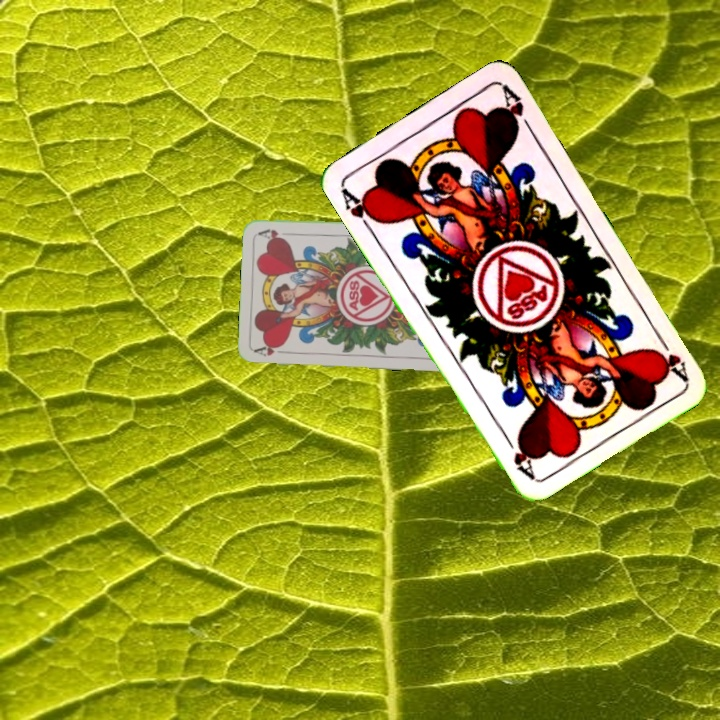HA: (337, 183, 383, 235), (649, 329, 691, 383), (252, 340, 292, 359)
